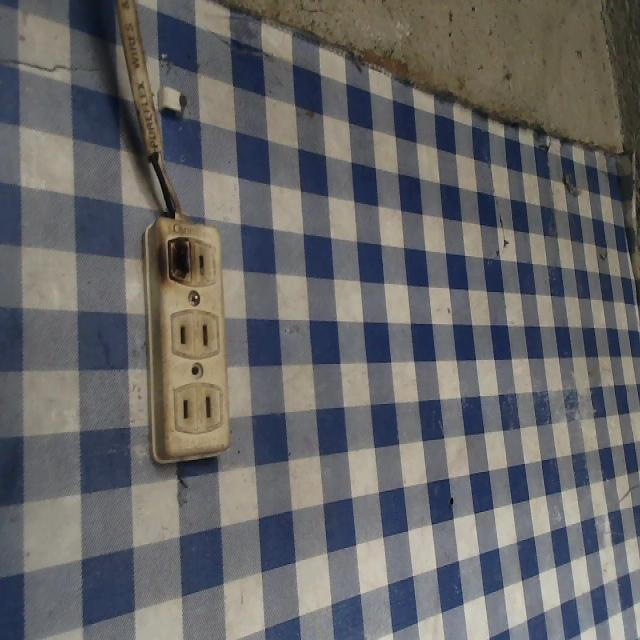-: (155, 224, 198, 289)
